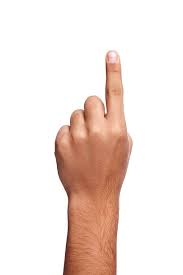hand: (47, 36, 149, 210)
